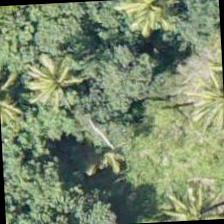Kelapa_Sawit: (9, 30, 104, 124), (103, 0, 196, 51), (151, 172, 223, 222)
